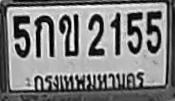1: (110, 13, 120, 54)
2: (87, 14, 104, 54)
5: (12, 14, 29, 57), (126, 11, 142, 53), (146, 10, 161, 53)
A01: (35, 14, 54, 57)
A02: (58, 14, 78, 56)
BKK: (30, 70, 146, 92)
